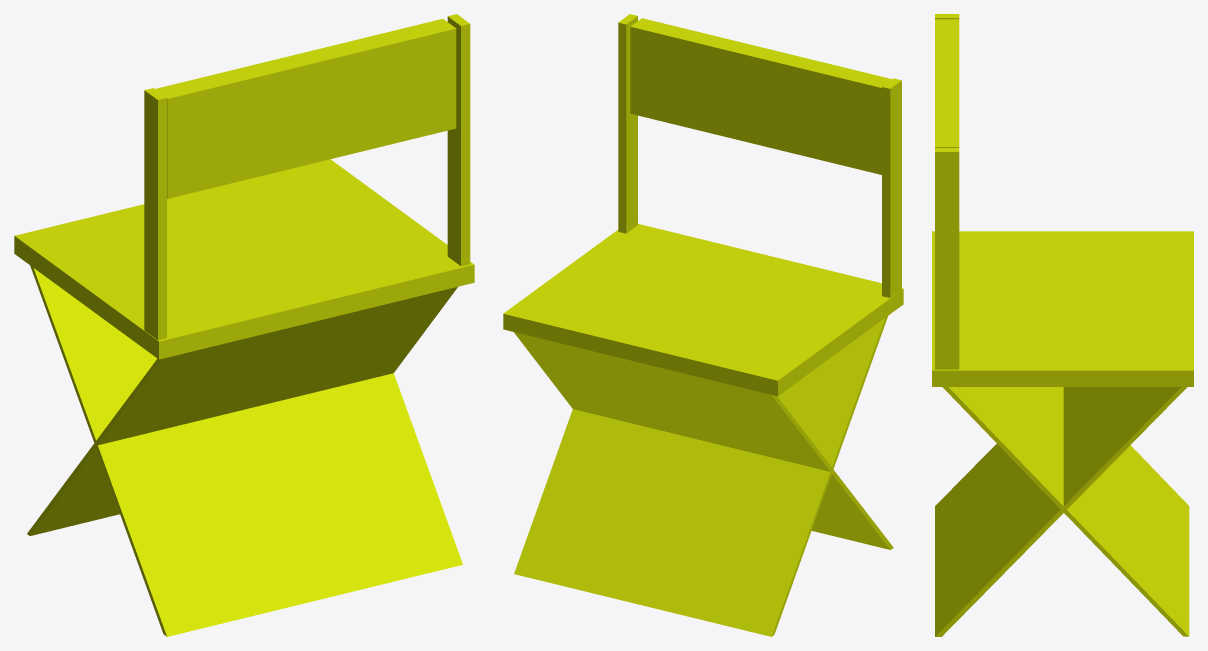
The model's file is стул.glb.
3 views of the same model, side by side, from view 1: azimuth 30°, elevation 25°; view 2: azimuth 150°, elevation 25°; view 3: azimuth 270°, elevation 25° (orthographic). The views are drawn at different scales.
Visible parts, largest first — view 1: Cube; view 2: Cube; view 3: Cube.
Part boxes in pixels (x1,y1,x2,y2): Cube: (14,14,474,636); Cube: (503,14,903,636); Cube: (932,14,1193,636).
Size of the model in its own units: 2.73 by 4.45 by 2.17.
